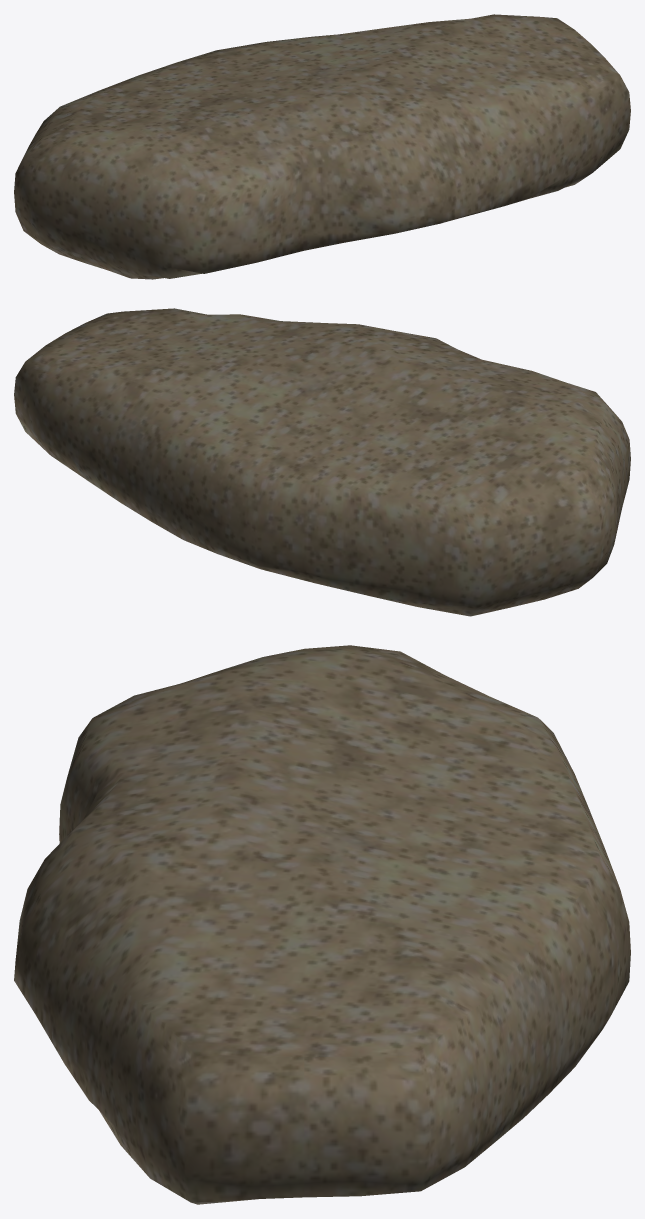
File: jagged_gravel_02.glb
3 renders of one model, top to bottom at view 1: azimuth 30°, elevation 25°; view 2: azimuth 150°, elevation 25°; view 3: azimuth 270°, elevation 25°, orthographic. The views are drawn at different scales.
Visible parts, largest first — view 1: jagged_gravel_02; view 2: jagged_gravel_02; view 3: jagged_gravel_02.
Part boxes in pixels (<box>): jagged_gravel_02: <box>14,14,630,279</box>; jagged_gravel_02: <box>14,308,630,616</box>; jagged_gravel_02: <box>14,645,630,1204</box>.
Size of the model in its own units: 0.077 by 0.0218 by 0.0453.
1 material, 1 textured.
